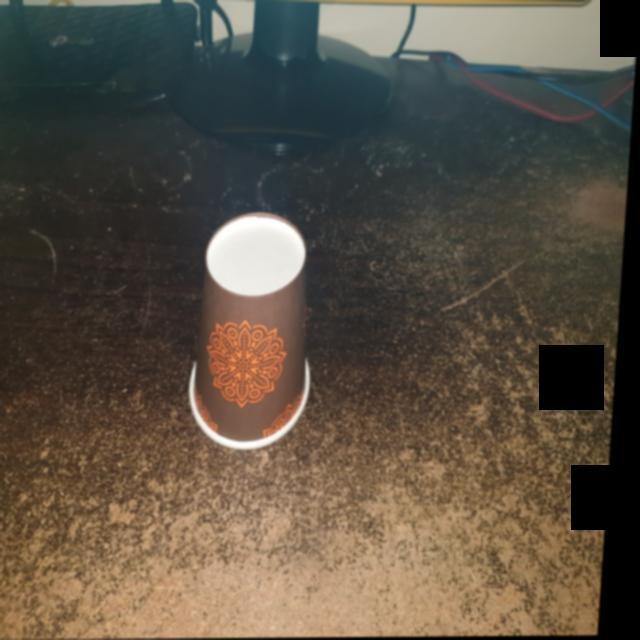cups: (188, 206, 332, 454)
